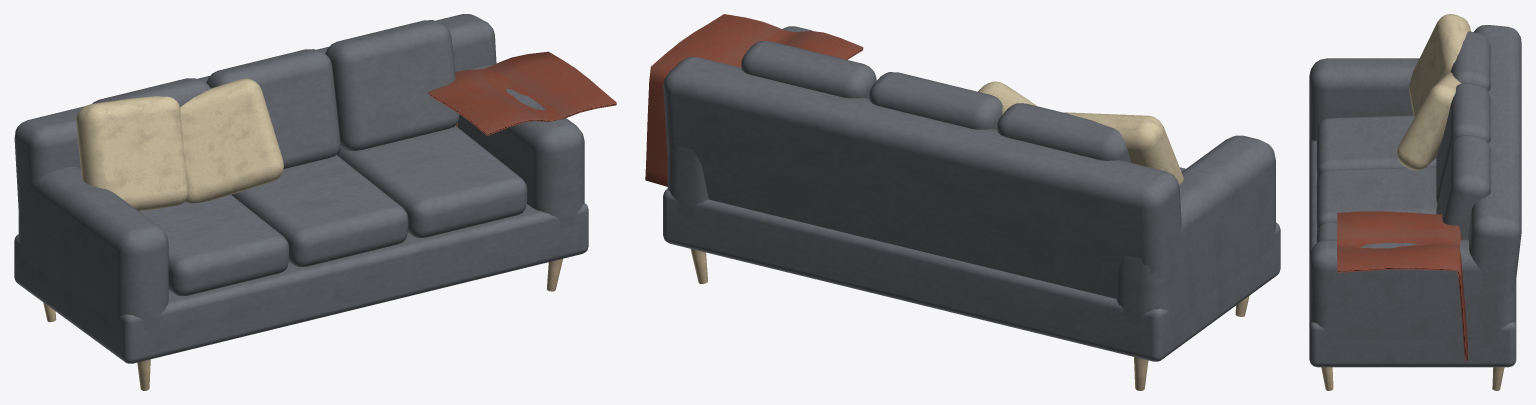
The model's file is dom_kanapa.glb.
The picture shows the model from 3 angles, left to right: view 1: azimuth 30°, elevation 25°; view 2: azimuth 150°, elevation 25°; view 3: azimuth 270°, elevation 25°; orthographic projection. The views are drawn at different scales.
Visible parts, largest first — view 1: Kanapa, TintPoduszki, Koc; view 2: Kanapa, Koc, TintPoduszki; view 3: Kanapa, Koc, TintPoduszki.
Boxes of the visible parts, box(x1,y1,x2,y2) form: Kanapa: box(14, 14, 588, 390); TintPoduszki: box(76, 78, 283, 211); Koc: box(428, 51, 616, 135); Kanapa: box(663, 26, 1280, 390); Koc: box(645, 14, 863, 186); TintPoduszki: box(978, 81, 1183, 184); Kanapa: box(1309, 25, 1521, 390); Koc: box(1337, 211, 1467, 360); TintPoduszki: box(1397, 14, 1470, 170).
Size of the model in its own units: 2.07 by 0.8959 by 0.8404.
Materials: 3 (3 with a texture image).
